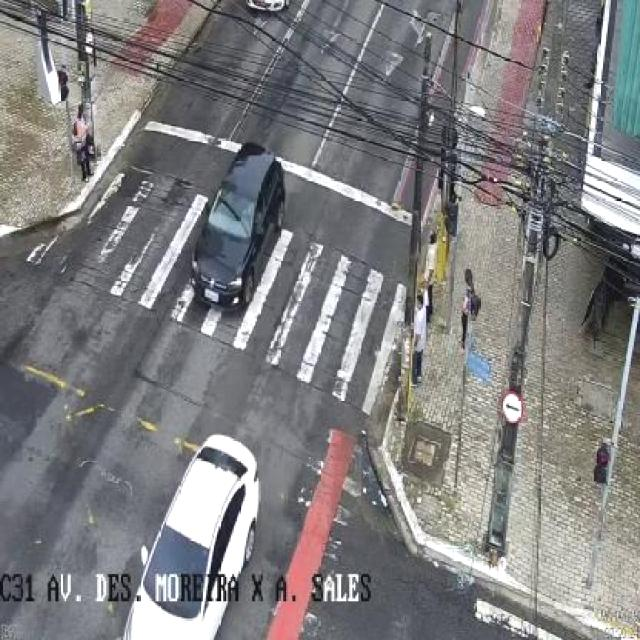Car: (120, 434, 263, 640), (189, 140, 285, 313)
